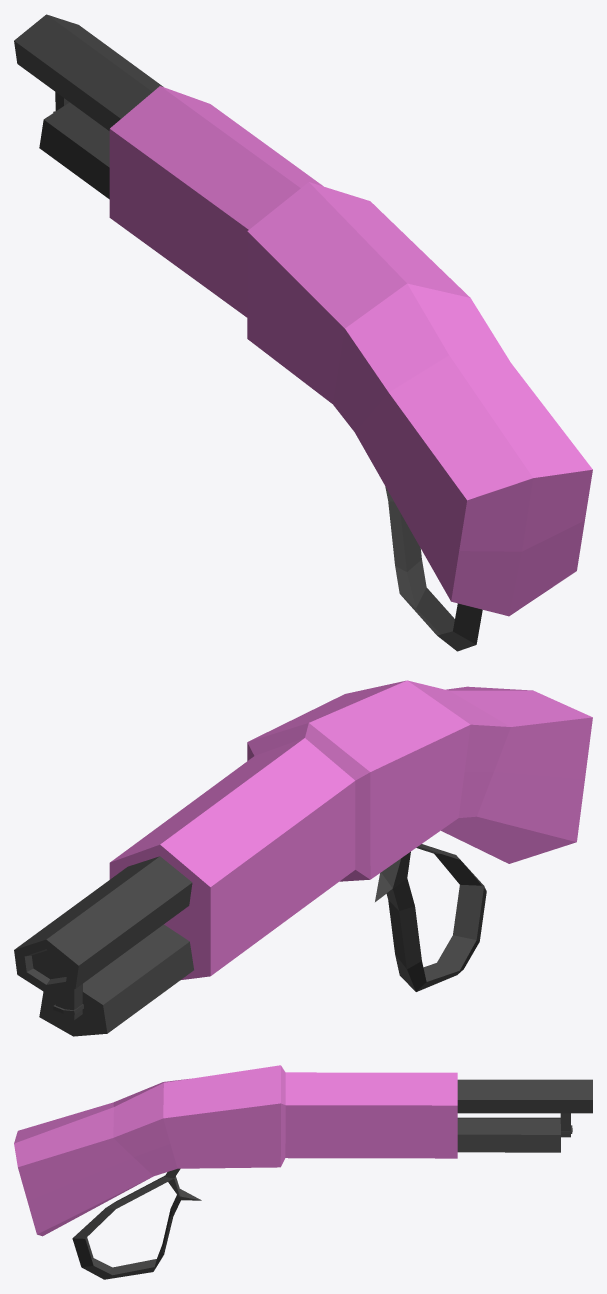
File: LeverShotgun.fbx
3 renders of one model, top to bottom at view 1: azimuth 30°, elevation 25°; view 2: azimuth 150°, elevation 25°; view 3: azimuth 270°, elevation 25°, orthographic. The views are drawn at different scales.
Parts seen in each view (by area): view 1: LeverAction ShotGun -mesh; view 2: LeverAction ShotGun -mesh; view 3: LeverAction ShotGun -mesh.
Boxes of the visible parts, box(x1,y1,x2,y2) form: LeverAction ShotGun -mesh: box(14, 14, 592, 651); LeverAction ShotGun -mesh: box(14, 680, 592, 1036); LeverAction ShotGun -mesh: box(14, 1065, 592, 1279).
Bounding box in the file's own units: 155 × 426 × 1042.
